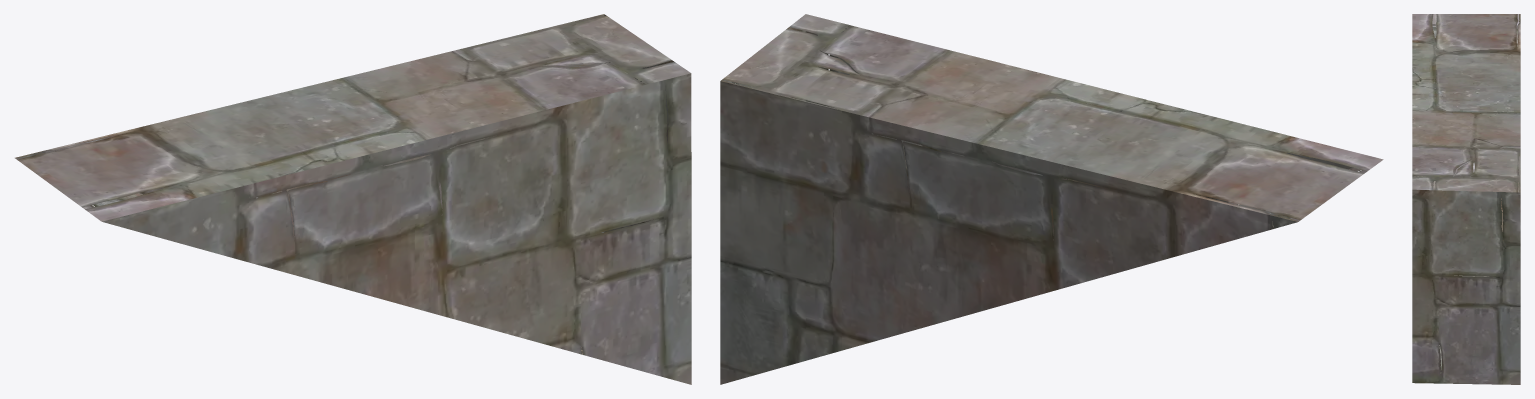
3 renders of one model, left to right at view 1: azimuth 30°, elevation 25°; view 2: azimuth 150°, elevation 25°; view 3: azimuth 270°, elevation 25°, orthographic. The views are drawn at different scales.
Parts seen in each view (by area): view 1: SM_BB_T3_Wall_Slanted_Shallow_Med_Inverted_LOD0; view 2: SM_BB_T3_Wall_Slanted_Shallow_Med_Inverted_LOD0; view 3: SM_BB_T3_Wall_Slanted_Shallow_Med_Inverted_LOD0.
Part boxes in pixels (<box>): SM_BB_T3_Wall_Slanted_Shallow_Med_Inverted_LOD0: <box>15,14,691,384</box>; SM_BB_T3_Wall_Slanted_Shallow_Med_Inverted_LOD0: <box>720,14,1383,384</box>; SM_BB_T3_Wall_Slanted_Shallow_Med_Inverted_LOD0: <box>1412,14,1520,384</box>.
Size of the model in its own units: 1.5 by 0.7649 by 0.3843.
Materials: 1 (1 with a texture image).
